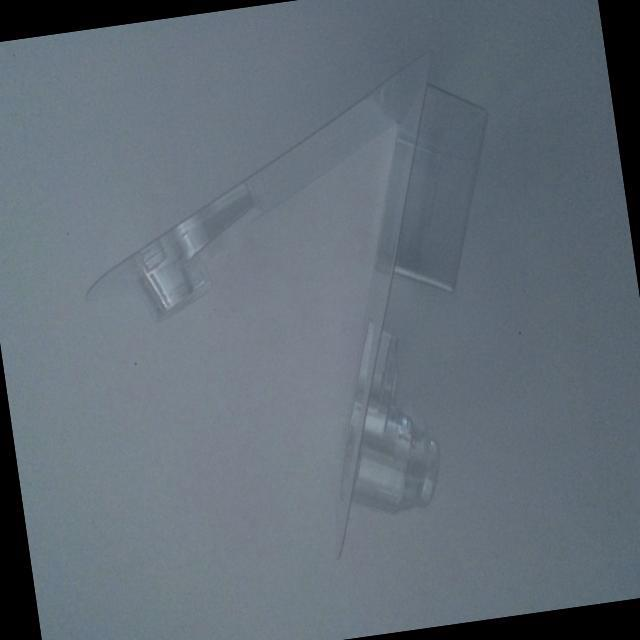plastic: (18, 43, 579, 632)
